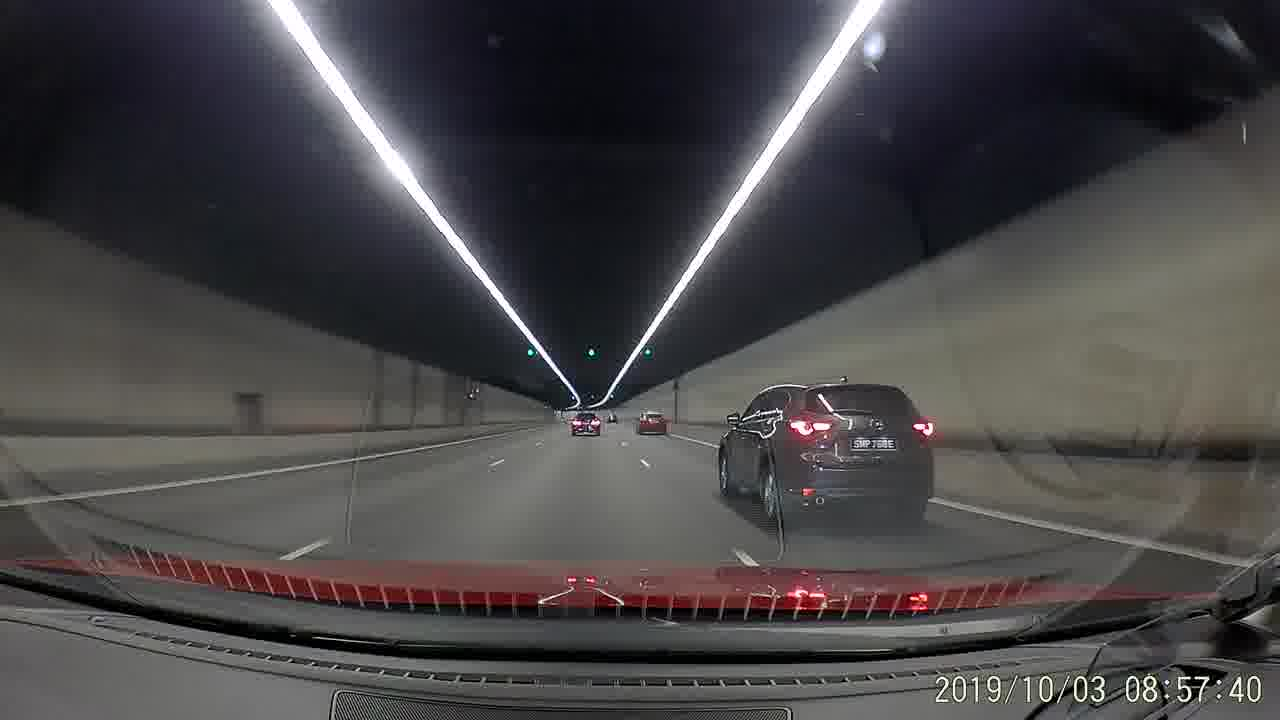car: (709, 379, 935, 537), (637, 407, 670, 435), (570, 411, 603, 437)
